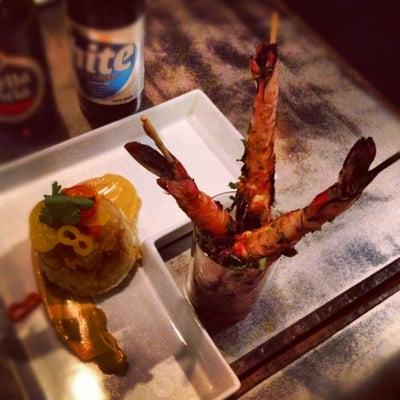pizza: (63, 0, 147, 124)
